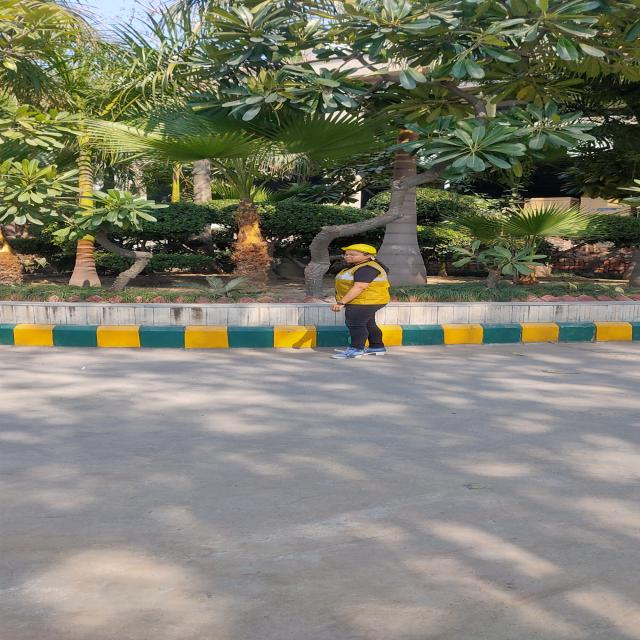safe: (330, 244, 390, 358)
